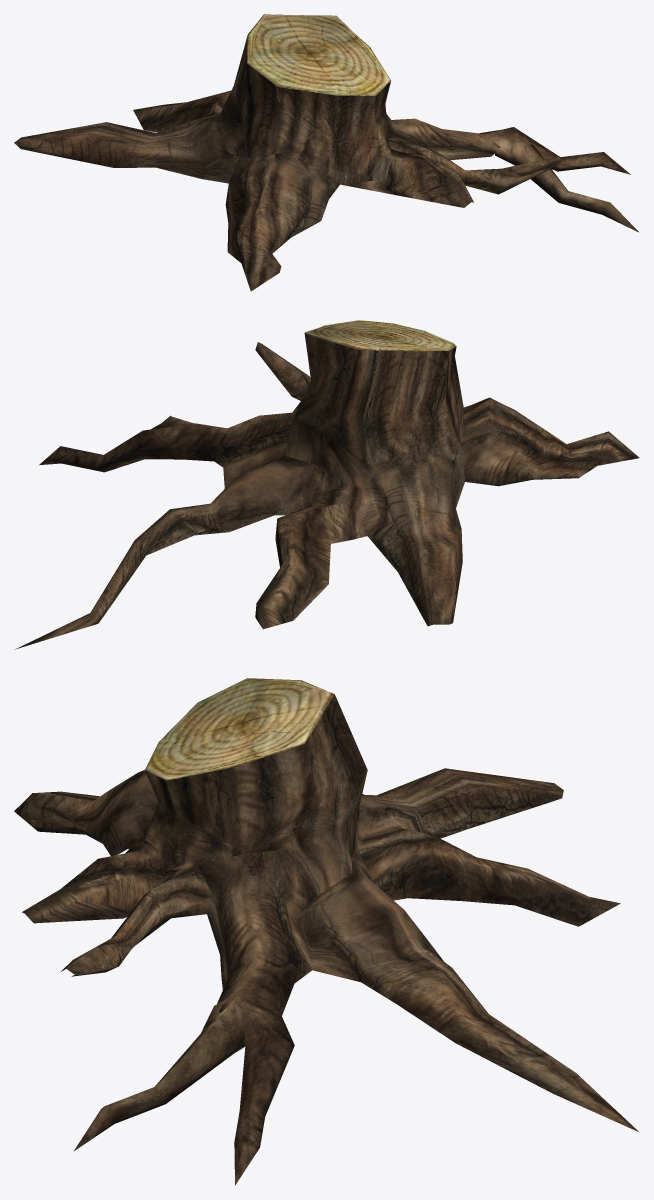
The model's file is n_SWCroot02.glb.
3 renders of one model, top to bottom at view 1: azimuth 30°, elevation 25°; view 2: azimuth 150°, elevation 25°; view 3: azimuth 270°, elevation 25°, orthographic. The views are drawn at different scales.
Visible parts, largest first — view 1: n_SWCroot02; view 2: n_SWCroot02; view 3: n_SWCroot02.
Boxes of the visible parts, bbox=[...] form: n_SWCroot02: bbox=[14, 14, 638, 291]; n_SWCroot02: bbox=[15, 320, 639, 649]; n_SWCroot02: bbox=[14, 678, 638, 1185].
Bounding box in the file's own units: 4.08 × 1.87 × 3.39.
Materials: 2 (2 with a texture image).
